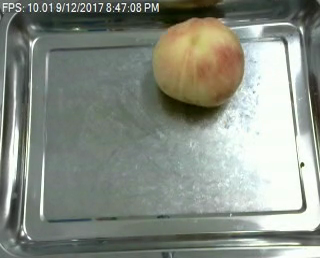Peach: (152, 16, 245, 107)
